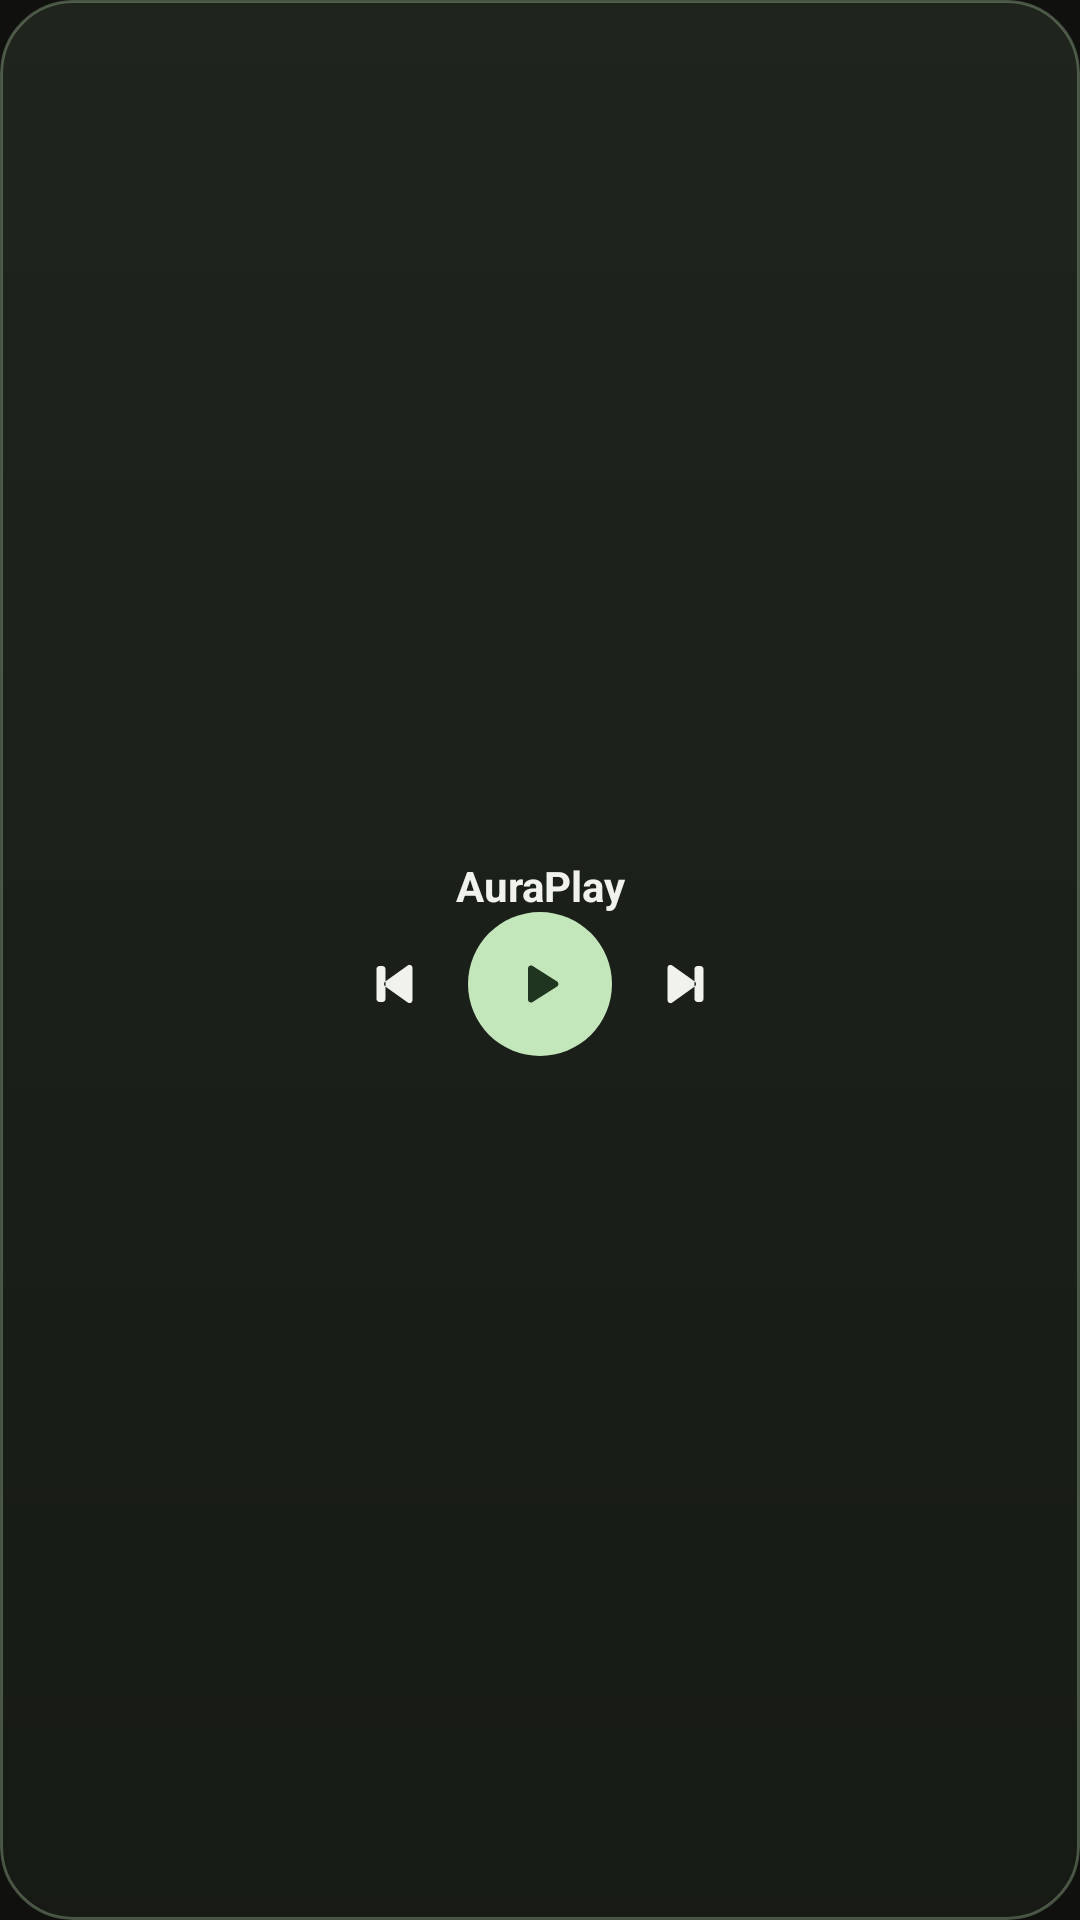

Icons on this 1080px x 1920px Android screen, each with the point to tap as [x,y]:
Next track: [685,984]
Previous track: [394,983]
